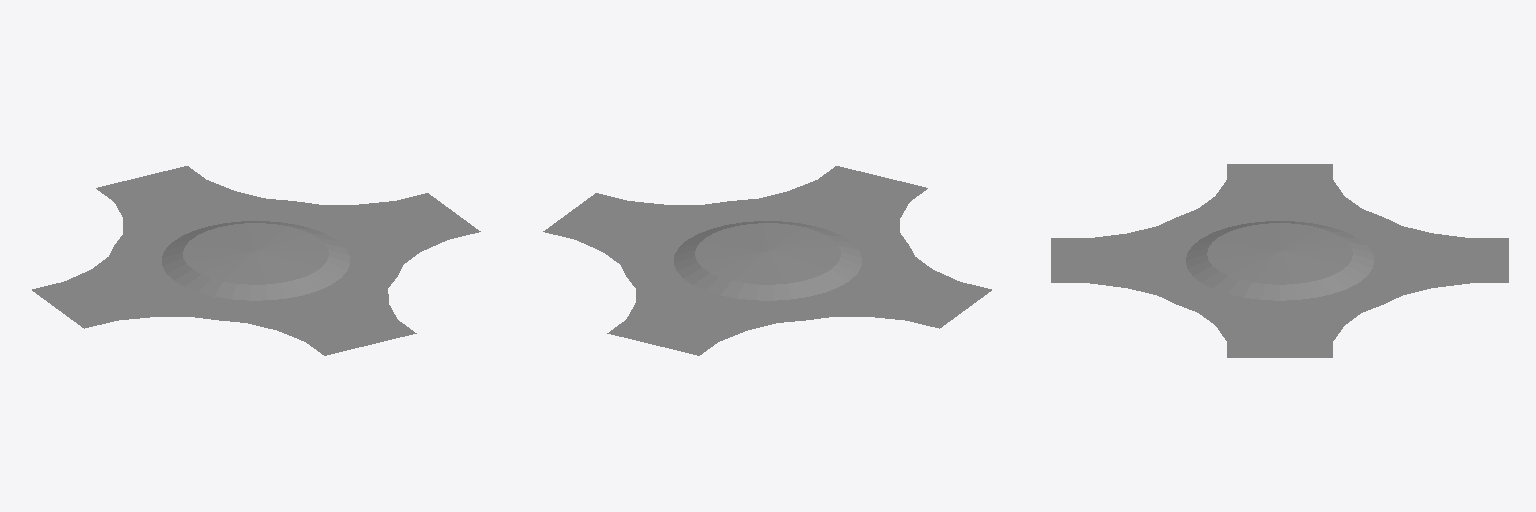
The model's file is Roundabout.obj.
The picture shows the model from 3 angles: view 1: azimuth 30°, elevation 25°; view 2: azimuth 150°, elevation 25°; view 3: azimuth 270°, elevation 25°; orthographic projection.
Visible parts, largest first — view 1: Plane01; view 2: Plane01; view 3: Plane01.
Boxes of the visible parts, <box> form: Plane01: <box>32,166,480,355</box>; Plane01: <box>543,166,991,355</box>; Plane01: <box>1051,164,1508,357</box>.
Bounding box in the file's own units: 30.1 × 0.7 × 30.12.